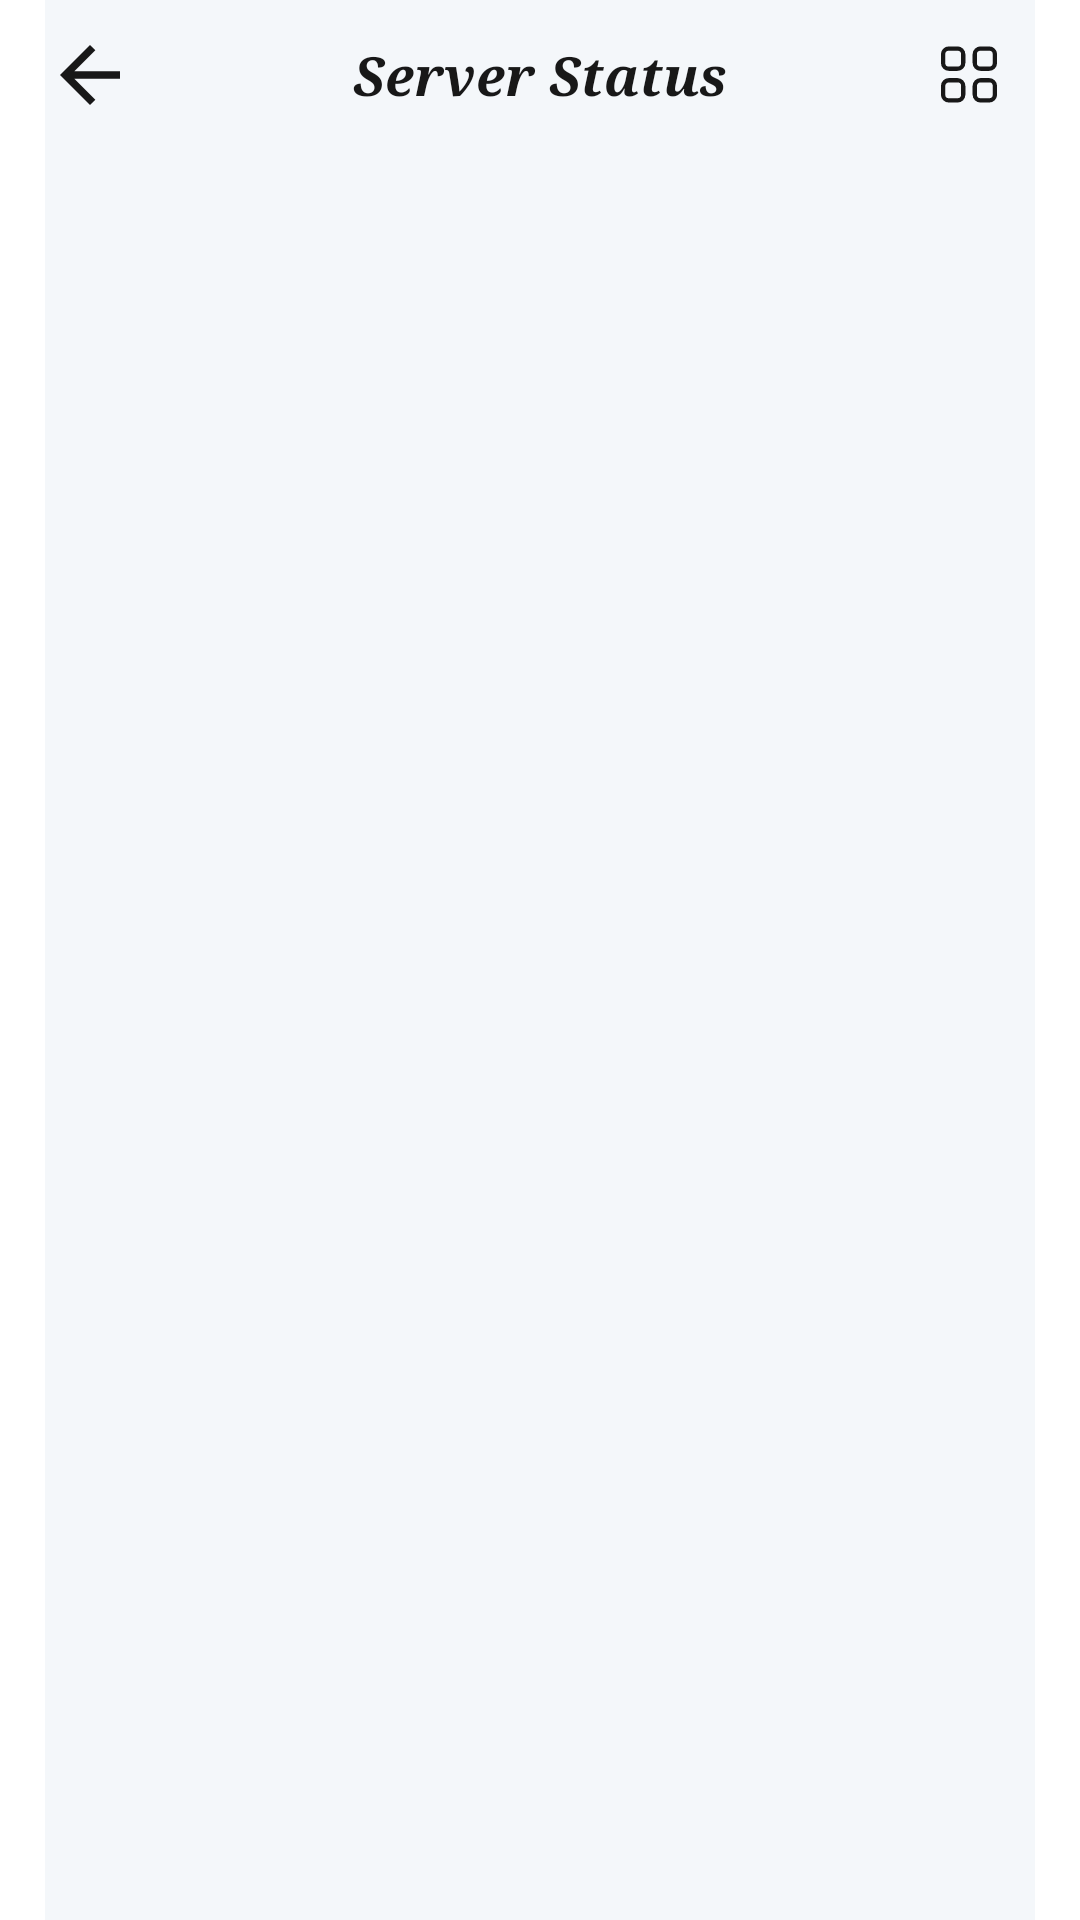

Screen size 1080w x 1920h. Icon name, then its box in pixels as bbox=(x1, y1, x2, y2):
mymenu: bbox=(941, 46, 997, 103)
